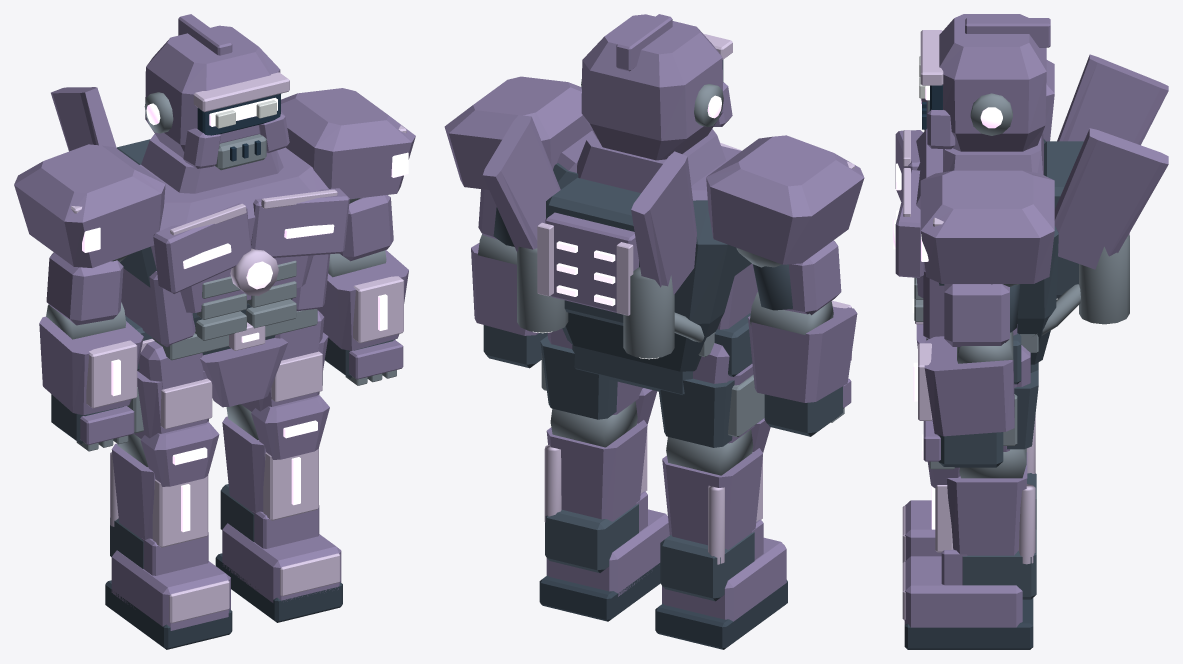
File: bot_flanker.glb
3 renders of one model, left to right at view 1: azimuth 30°, elevation 25°; view 2: azimuth 150°, elevation 25°; view 3: azimuth 270°, elevation 25°, orthographic. The views are drawn at different scales.
Parts seen in each view (by area): view 1: shoulder_pauldron_63, shoulder_pauldron_78, helmet_94, thorax_carapace_2, pectoral_plate_3, pectoral_plate_13, forearm_bracer_69, boot_toe_31, boot_toe_47, upper_arm_plate_67, codpiece_24, neck_guard_collar_93 (+52 smaller); view 2: shoulder_pauldron_63, helmet_94, shoulder_pauldron_78, torso_1, forearm_bracer_69, reactor_swept_fin_120, shin_armor_51, reactor_swept_fin_124, shin_armor_35, reactor_armored_cover_109, boot_ankle_49, boot_ankle_33 (+32 smaller); view 3: shoulder_pauldron_78, helmet_94, reactor_swept_fin_124, forearm_bracer_84, reactor_swept_fin_120, boot_toe_47, shin_armor_51, upper_arm_plate_82, reactor_thruster_125, boot_sole_46, torso_1, boot_ankle_49 (+24 smaller).
Boxes of the visible parts, x1,y1,x2,y2 form: shoulder_pauldron_63: (14,144,165,267); shoulder_pauldron_78: (281,88,415,199); helmet_94: (145,25,280,157); thorax_carapace_2: (139,147,328,312); pectoral_plate_3: (153,203,251,293); pectoral_plate_13: (251,188,349,257); forearm_bracer_69: (39,316,143,415); boot_toe_31: (111,550,230,630); boot_toe_47: (222,523,341,602); upper_arm_plate_67: (46,252,123,325); codpiece_24: (200,338,287,407); neck_guard_collar_93: (141,134,283,193); shoulder_pauldron_63: (706,135,864,264); helmet_94: (581,14,723,160); shoulder_pauldron_78: (444,76,591,189); torso_1: (553,163,751,371); forearm_bracer_69: (748,306,857,402); reactor_swept_fin_120: (631,151,696,294); shin_armor_51: (546,420,647,521); reactor_swept_fin_124: (482,115,560,252); shin_armor_35: (662,448,762,549); reactor_armored_cover_109: (545,212,638,312); boot_ankle_49: (545,503,638,572); boot_ankle_33: (660,532,754,601); shoulder_pauldron_78: (920,170,1054,283); helmet_94: (939,14,1046,151); reactor_swept_fin_124: (1054,128,1168,269); forearm_bracer_84: (924,336,1014,436); reactor_swept_fin_120: (1057,54,1168,145); boot_toe_47: (904,556,1022,627); shin_armor_51: (946,452,1027,555); upper_arm_plate_82: (944,284,1009,346); reactor_thruster_125: (1079,234,1129,324); boot_sole_46: (904,598,1033,649); torso_1: (939,139,1058,364); boot_ankle_49: (962,529,1036,599).
Size of the model in its own units: 1.57 by 2.41 by 1.03.
